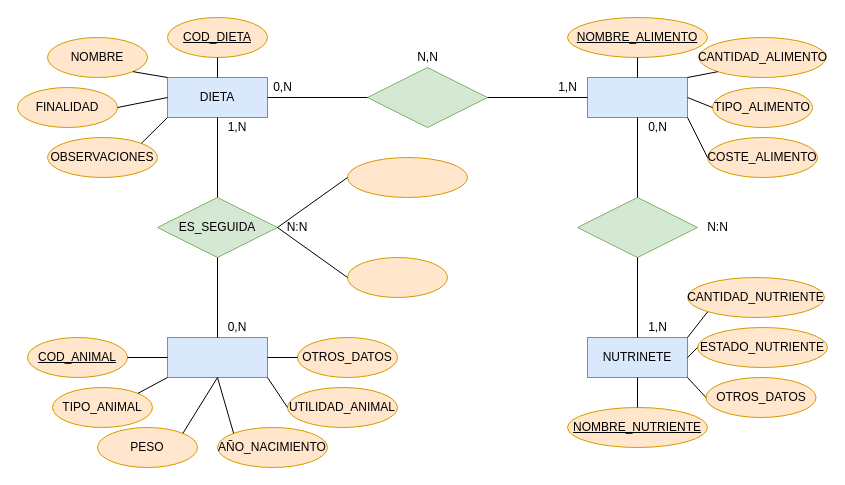
Image size: 845x485. Some labels were removed from this diagram. Here are the shapes that lost their labels. From the top down, the centre of each, then its label:
At point 427,97: "CONSTITUIDA".
At point 637,97: "ALIMENTO".
At point 407,177: "FECHA_COMIENZO".
At point 637,227: "CONTIENE".
At point 397,277: "FACHA_FIN".
At point 217,357: "ANIMALES".
